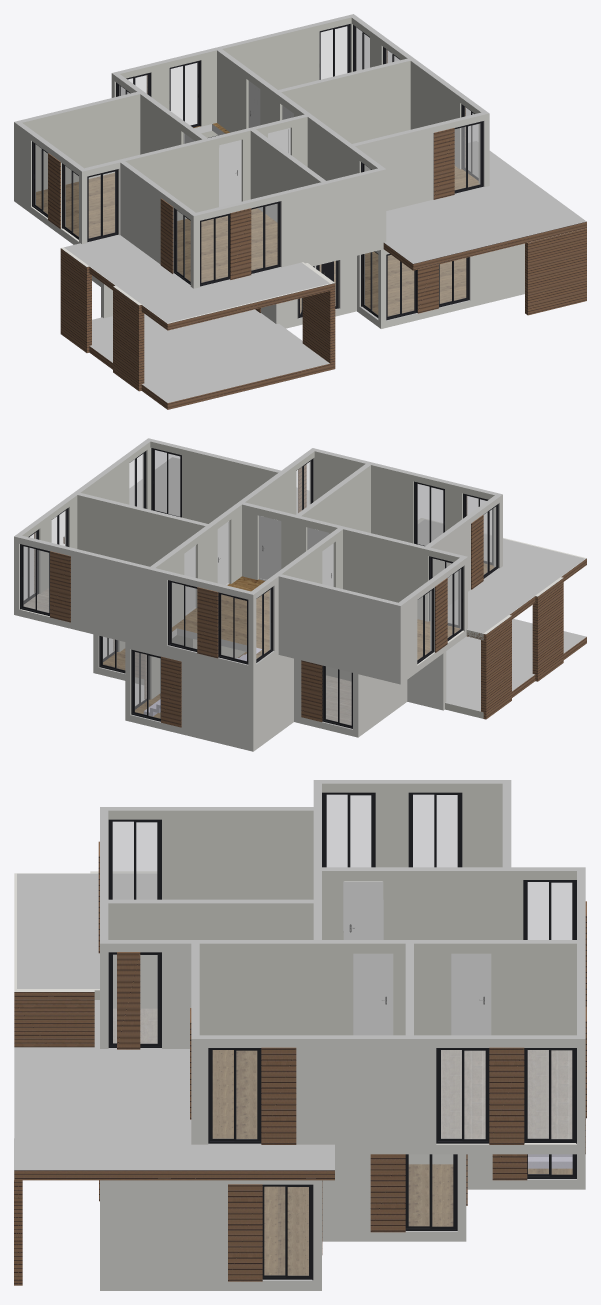
The picture shows the model from 3 angles, top to bottom: view 1: azimuth 30°, elevation 25°; view 2: azimuth 150°, elevation 25°; view 3: azimuth 270°, elevation 25°; orthographic projection. The views are drawn at different scales.
Size of the model in its own units: 16.42 by 5.9 by 13.3.
